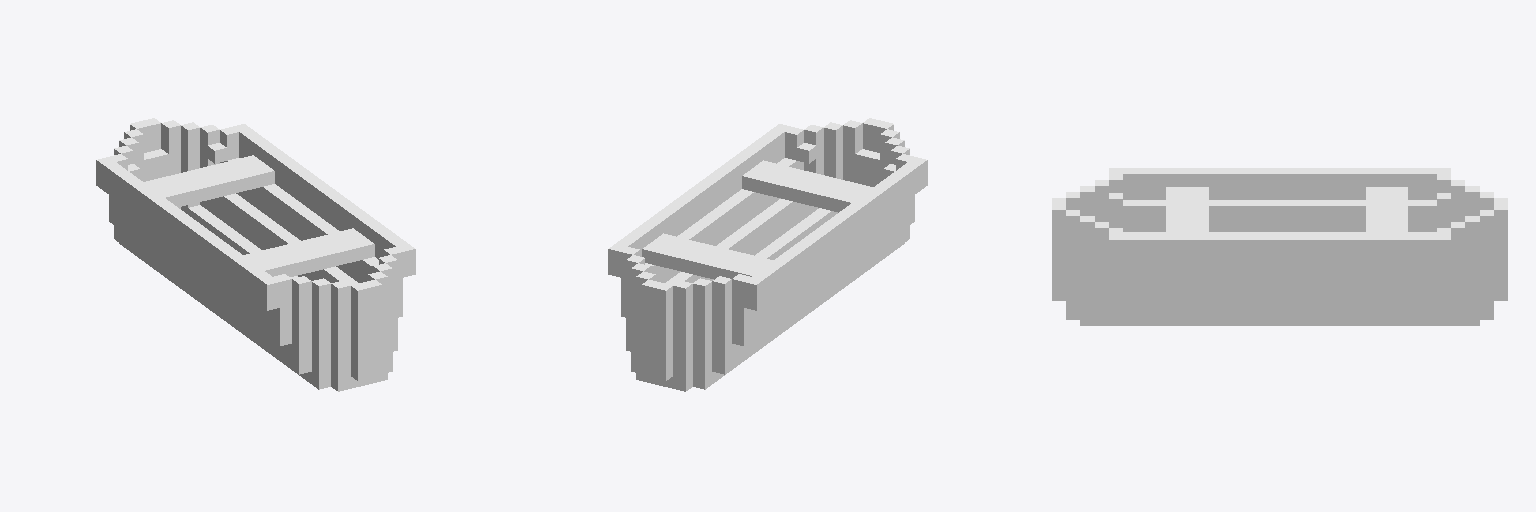
Rendered from barca.obj.
3 views of the same model, side by side, from view 1: azimuth 30°, elevation 25°; view 2: azimuth 150°, elevation 25°; view 3: azimuth 270°, elevation 25° (orthographic).
Parts seen in each view (by area): view 1: object 1; view 2: object 1; view 3: object 1.
Boxes of the visible parts, x1=… form: object 1: x1=96, y1=118, x2=415, y2=391; object 1: x1=608, y1=118, x2=927, y2=391; object 1: x1=1052, y1=168, x2=1507, y2=325.
Bounding box in the file's own units: 1.2 × 0.8 × 3.2.